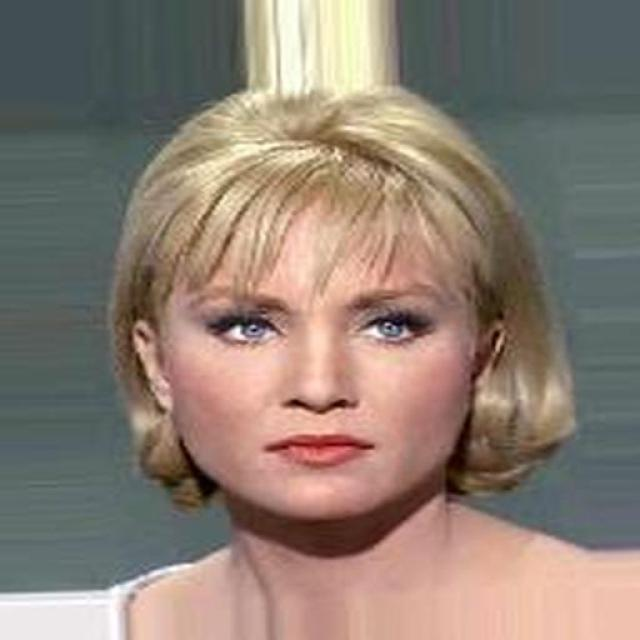bareface: (126, 125, 512, 545)
